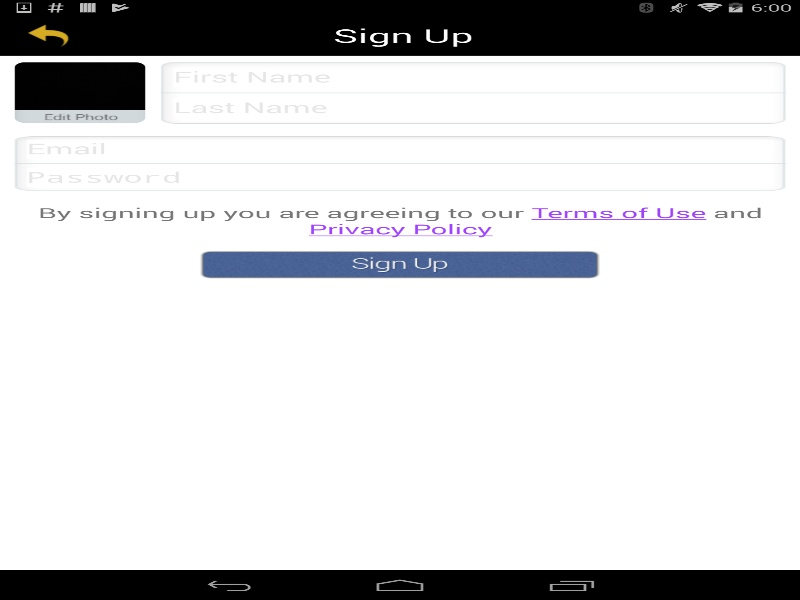Button: (200, 250, 600, 278), (10, 18, 85, 53)
Input: (26, 168, 773, 187), (26, 140, 773, 158), (173, 98, 773, 117), (173, 68, 773, 86)
